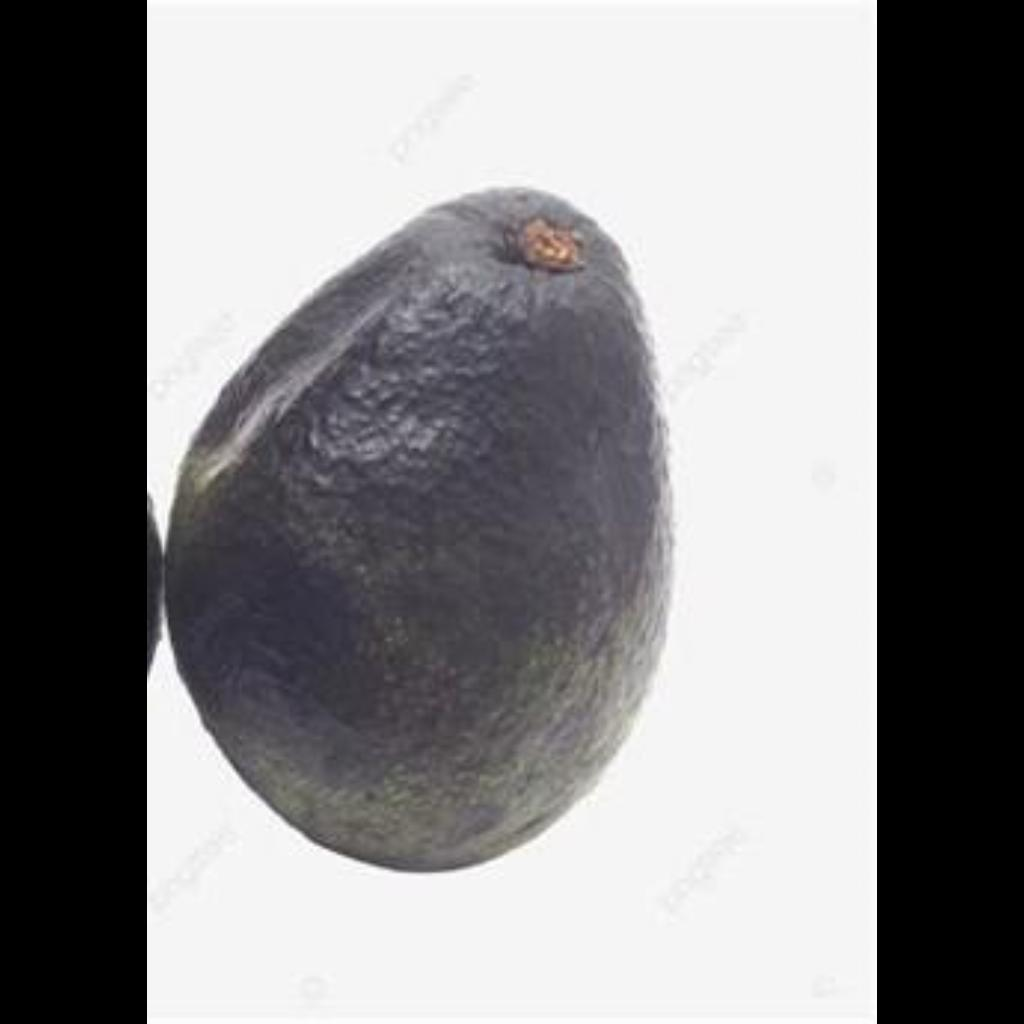antracnosis_fruto: (178, 200, 689, 868)
